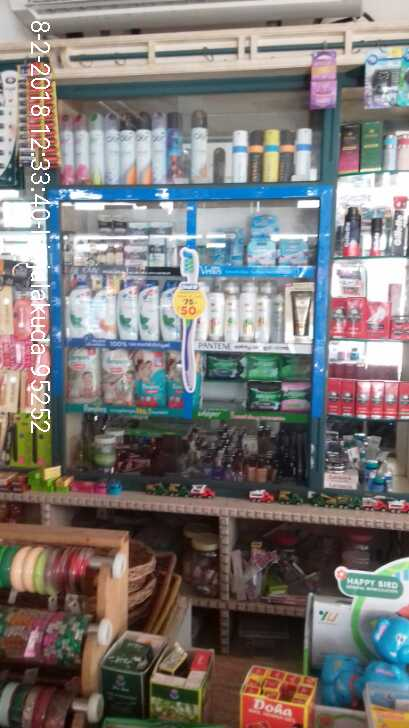gillete: (341, 208, 361, 258), (390, 209, 409, 258), (368, 217, 382, 258)
venus: (213, 226, 244, 262), (279, 239, 312, 264), (245, 241, 279, 264), (250, 214, 285, 234)
